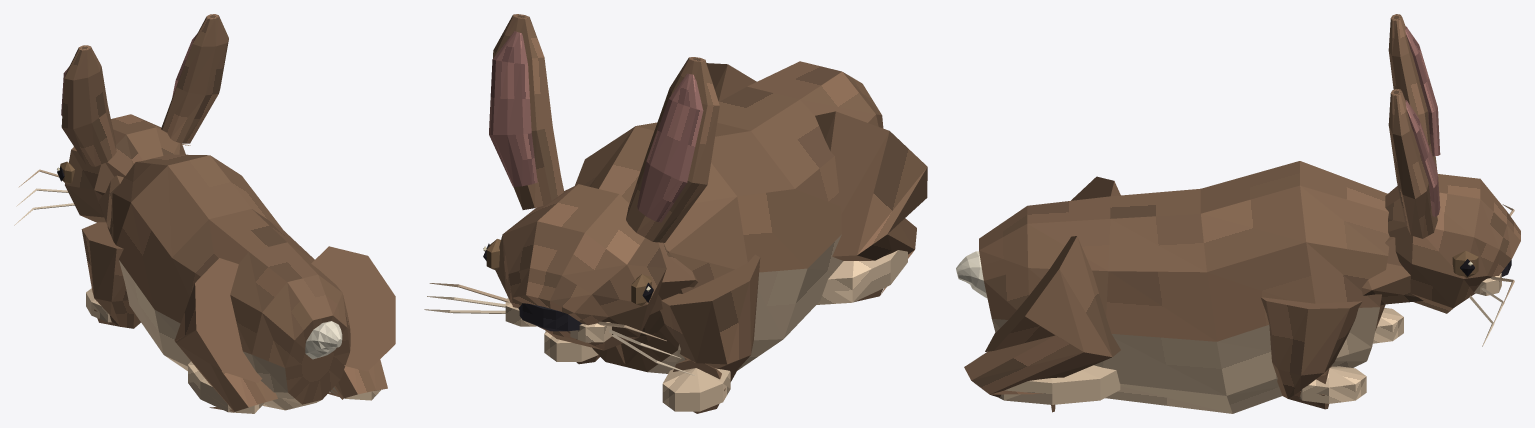
The model's file is mon_wild_rabbit_baby.glb.
The picture shows the model from 3 angles, left to right: view 1: azimuth 30°, elevation 25°; view 2: azimuth 150°, elevation 25°; view 3: azimuth 270°, elevation 25°; orthographic projection. The views are drawn at different scales.
Parts seen in each view (by area): view 1: closed_body; view 2: closed_body; view 3: closed_body.
Boxes of the visible parts, <box> form: closed_body: <box>14,14,395,413</box>; closed_body: <box>424,14,927,413</box>; closed_body: <box>956,14,1520,413</box>.
Bounding box in the file's own units: 0.0796 × 0.1119 × 0.1649.
Materials: 1 (1 with a texture image).
